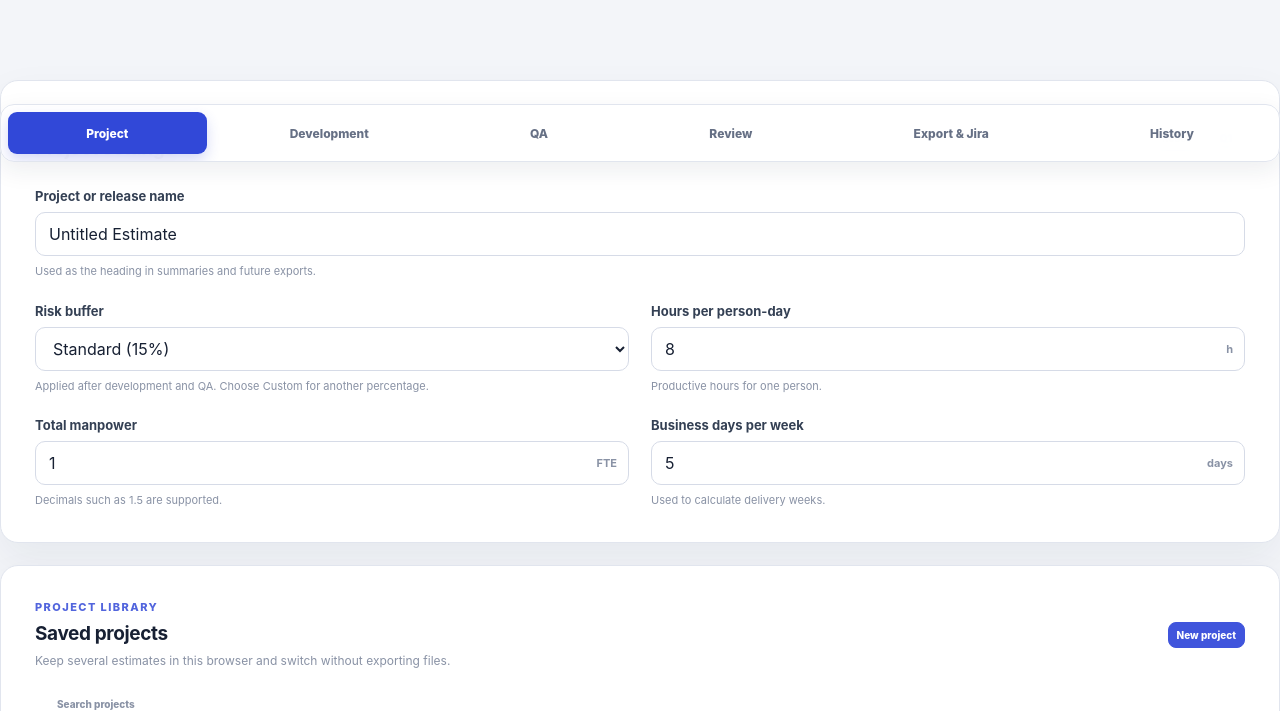
Test: CalculatorWorkspaceTabs › shows estimation health before the consolidated table in Review
The width and height of the screenshot is (1280, 711).
Click the tab "Review".
click(731, 133)  # box [631, 112, 830, 154]
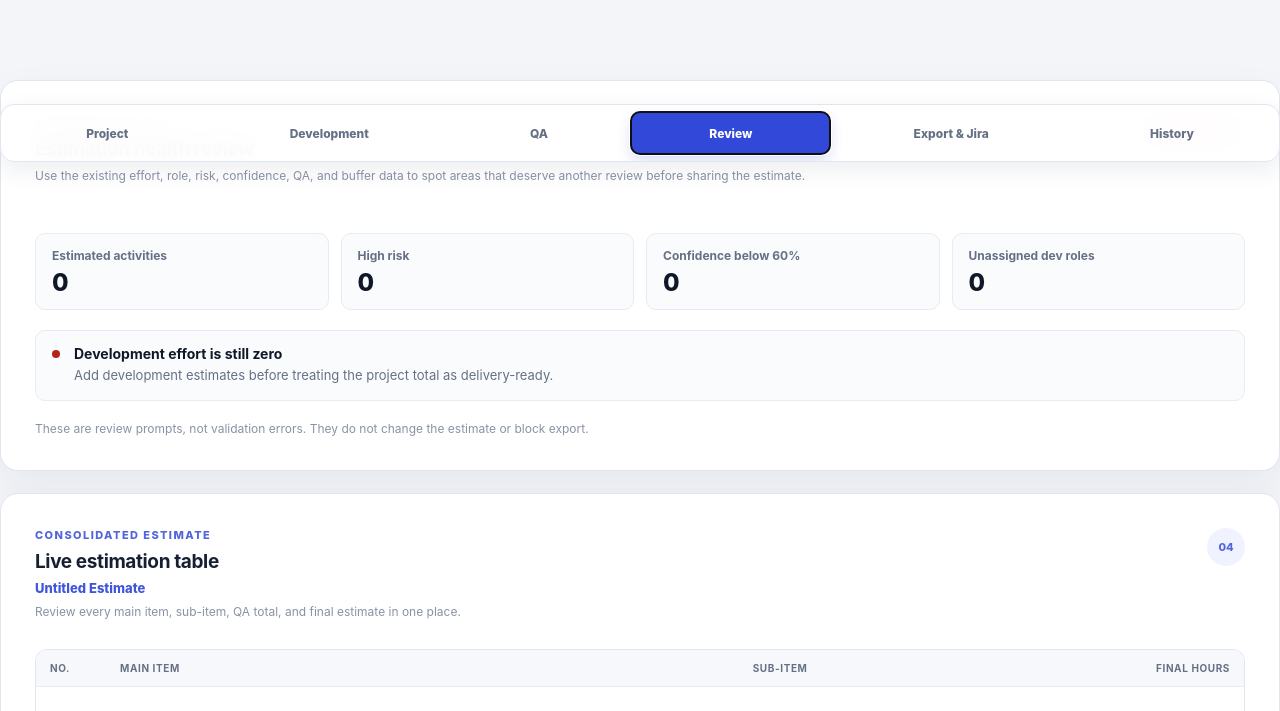
expect the text "Needs review" is shown: met, box [1140, 115, 1245, 146]
expect the heading "Estimation health review" is shown: met, box [35, 137, 254, 160]
expect the heading "Live estimation table" is shown: met, box [35, 550, 219, 572]
